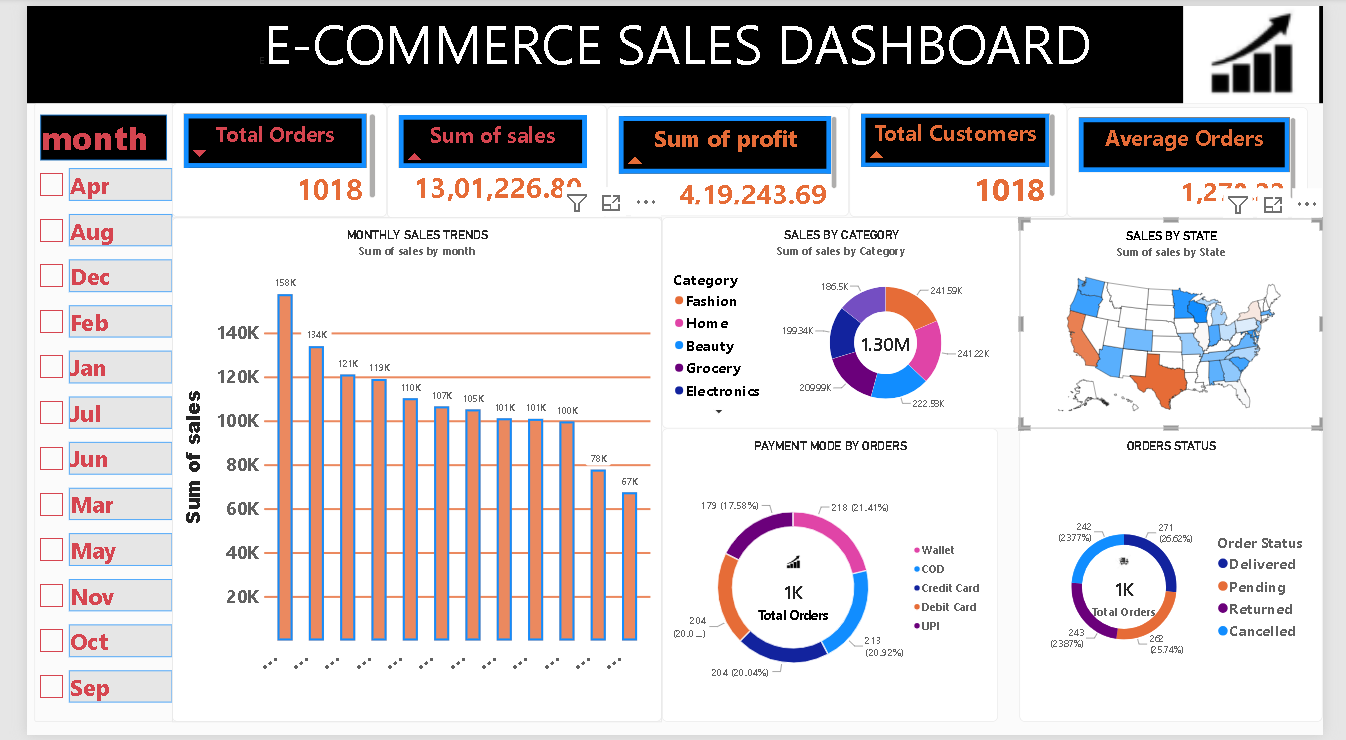

Layout of this report page (visuals, bound fields, positions):
{"tool":"powerbi","page":{"name":"Page 1","canvas":[1920,1080],"ordinal":0},"visuals":[{"type":"textbox","box":[0,0,1920.4,144.1],"z":0},{"type":"slicer","fields":{"Values":["clean data.month"]},"box":[10.9,144.8,204.5,915.7],"z":1},{"type":"tableEx","fields":{"Values":["clean data.Total Orders"]},"box":[215.3,144.8,318.5,168.3],"z":2},{"type":"tableEx","fields":{"Values":["Sum(clean data.sales)"]},"box":[533.8,146.6,325.7,168.3],"z":3},{"type":"tableEx","fields":{"Values":["Sum(clean data.profit)"]},"box":[859.6,148.4,358.3,162.9],"z":4},{"type":"tableEx","fields":{"Values":["clean data.Total Customers"]},"box":[1217.9,144.8,322.1,168.3],"z":5},{"type":"tableEx","fields":{"Values":["clean data.Average Orders"]},"box":[1540,150.2,356.5,162.9],"z":6},{"type":"lineStackedColumnComboChart","title":"MONTHLY SALES TRENDS","fields":{"Category":["clean data.month"],"Y":["Sum(clean data.sales)"]},"box":[215.3,313.1,725.7,747.4],"z":7},{"type":"donutChart","title":"SALES BY CATEGORY","fields":{"Category":["clean data.Category"],"Y":["Sum(clean data.sales)"]},"box":[941,313.1,530.2,313.1],"z":8},{"type":"shapeMap","title":"SALES  BY STATE","fields":{"Category":["clean data.State"],"Value":["Sum(clean data.sales)"]},"box":[1471.3,314.9,448.8,311.3],"z":9},{"type":"donutChart","title":"PAYMENT MODE BY ORDERS","fields":{"Category":["clean data.Payment Mode"],"Y":["clean data.Total Orders"]},"box":[941,626.1,497.7,434.3],"z":10},{"type":"donutChart","title":"ORDERS STATUS","fields":{"Category":["clean data.Order Status"],"Y":["clean data.Total Orders"]},"box":[1471,626,449,434],"z":11},{"type":"image","box":[1704.7,0,215.3,144.8],"z":12}]}

Visuals, with their boxes in screenshot pixels (x1, y1, x2, y2), scaled from the page's 1920x1080 canvas onto the 1346x740 screenshot:
textbox: <box>0,0,1345,99</box>
slicer - clean data.month: <box>8,99,151,727</box>
tableEx - clean data.Total Orders: <box>151,99,374,215</box>
tableEx - Sum(clean data.sales): <box>374,100,603,216</box>
tableEx - Sum(clean data.profit): <box>603,102,854,213</box>
tableEx - clean data.Total Customers: <box>854,99,1080,215</box>
tableEx - clean data.Average Orders: <box>1080,103,1330,215</box>
"MONTHLY SALES TRENDS" lineStackedColumnComboChart: <box>151,215,660,727</box>
"SALES BY CATEGORY" donutChart: <box>660,215,1031,429</box>
"SALES  BY STATE" shapeMap: <box>1031,216,1345,429</box>
"PAYMENT MODE BY ORDERS" donutChart: <box>660,429,1009,727</box>
"ORDERS STATUS" donutChart: <box>1031,429,1345,726</box>
image: <box>1195,0,1345,99</box>
